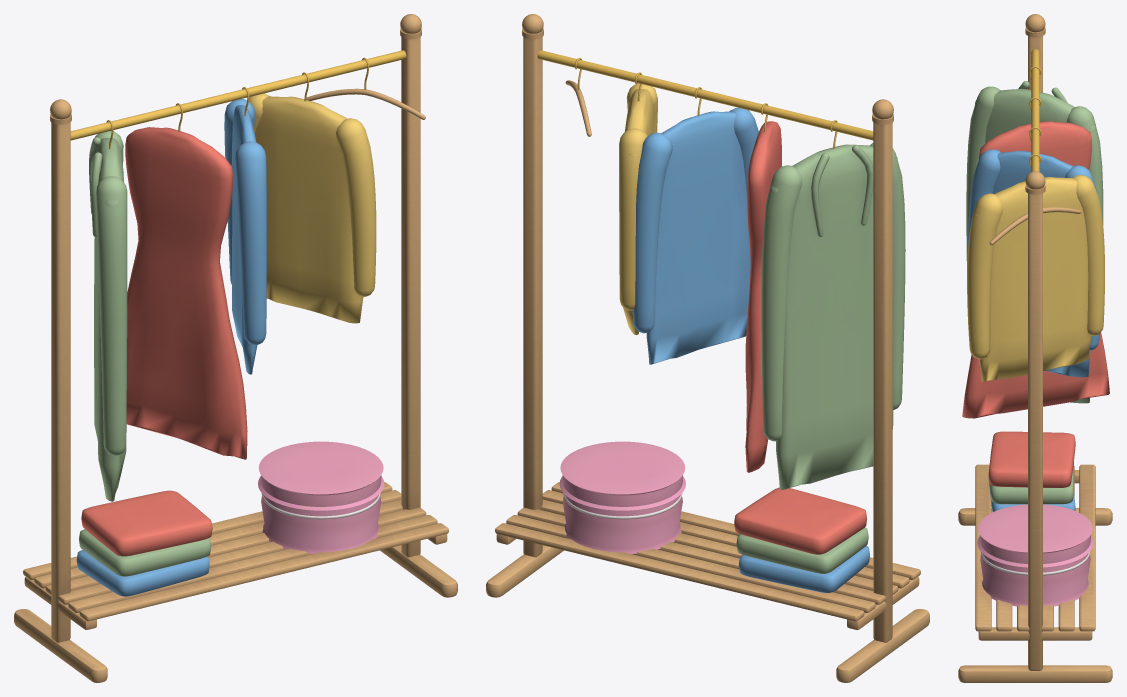
File: clothes-rack.glb
3 views of the same model, side by side, from view 1: azimuth 30°, elevation 25°; view 2: azimuth 150°, elevation 25°; view 3: azimuth 270°, elevation 25° (orthographic). The views are drawn at different scales.
Parts seen in each view (by area): view 1: clothes-rack_body; view 2: clothes-rack_body; view 3: clothes-rack_body.
Boxes of the visible parts, x1=… form: clothes-rack_body: x1=14, y1=14, x2=457, y2=682; clothes-rack_body: x1=486, y1=14, x2=929, y2=682; clothes-rack_body: x1=958, y1=14, x2=1112, y2=682.
Size of the model in its own units: 1.17 by 1.67 by 0.46.
Materials: 1 (1 with a texture image).
